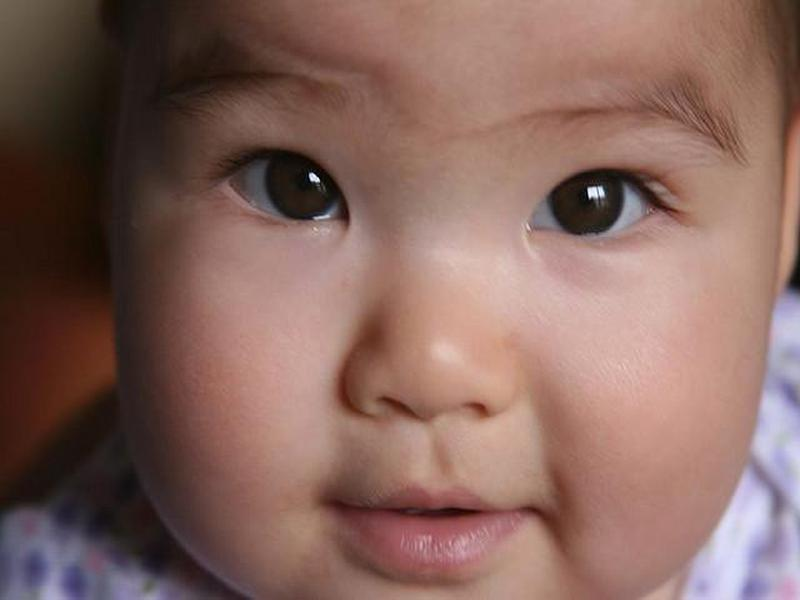person: (88, 3, 797, 600)
